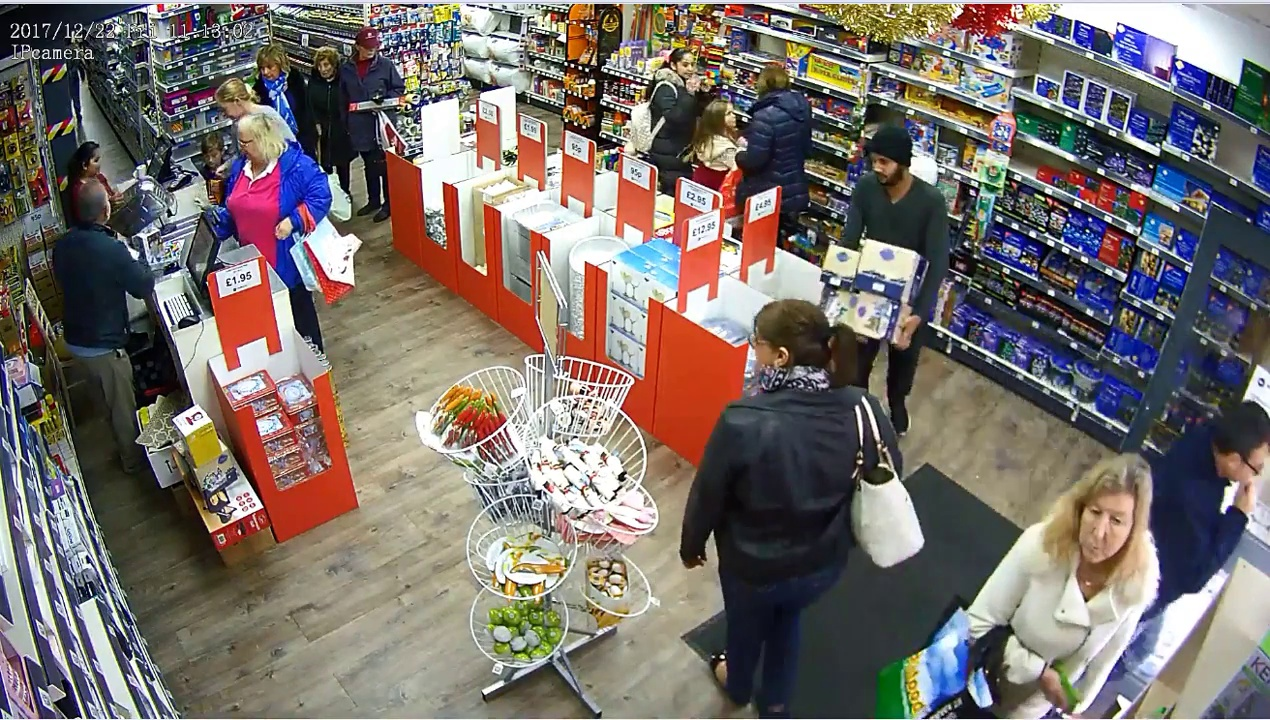face: (1081, 487, 1122, 562), (871, 144, 902, 187), (239, 127, 263, 163), (674, 52, 698, 82), (256, 61, 284, 85), (215, 96, 239, 123), (312, 58, 334, 80)
